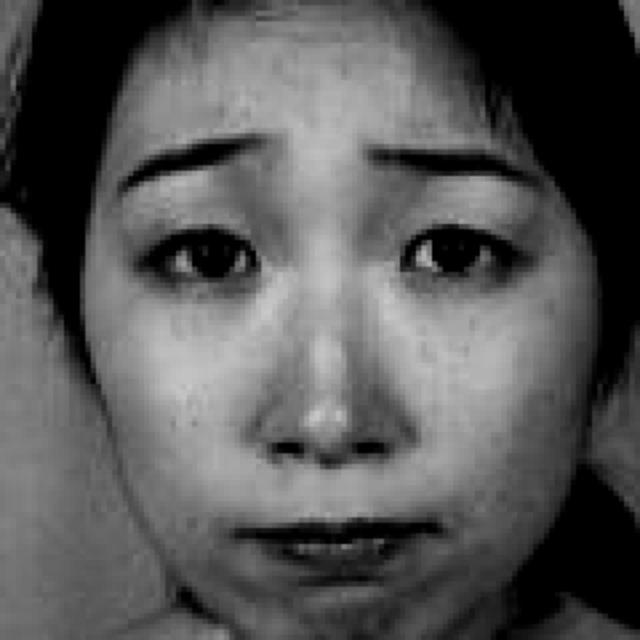sad: (72, 90, 558, 632)
